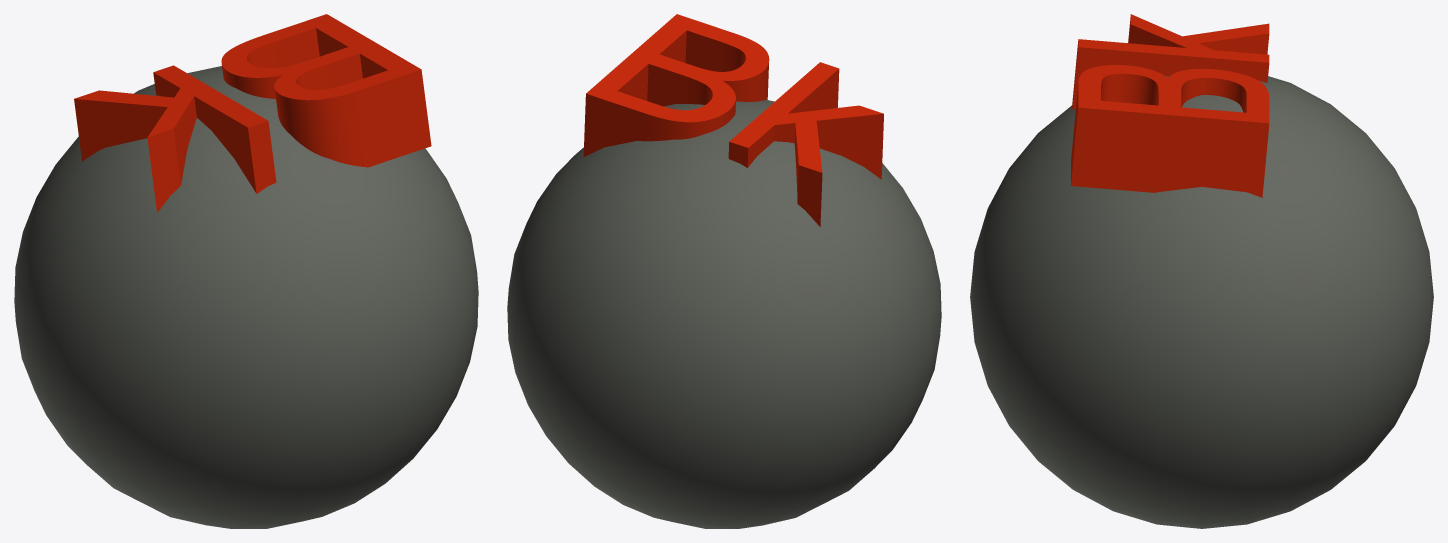
3 views of the same model, side by side, from view 1: azimuth 30°, elevation 25°; view 2: azimuth 150°, elevation 25°; view 3: azimuth 270°, elevation 25° (orthographic). The views are drawn at different scales.
Parts seen in each view (by area): view 1: Bk; view 2: Bk; view 3: Bk.
Part boxes in pixels (x1=…): Bk: x1=14, y1=14, x2=478, y2=528; Bk: x1=507, y1=14, x2=941, y2=528; Bk: x1=970, y1=14, x2=1433, y2=528.
Size of the model in its own units: 38.67 by 41.86 by 38.75.
